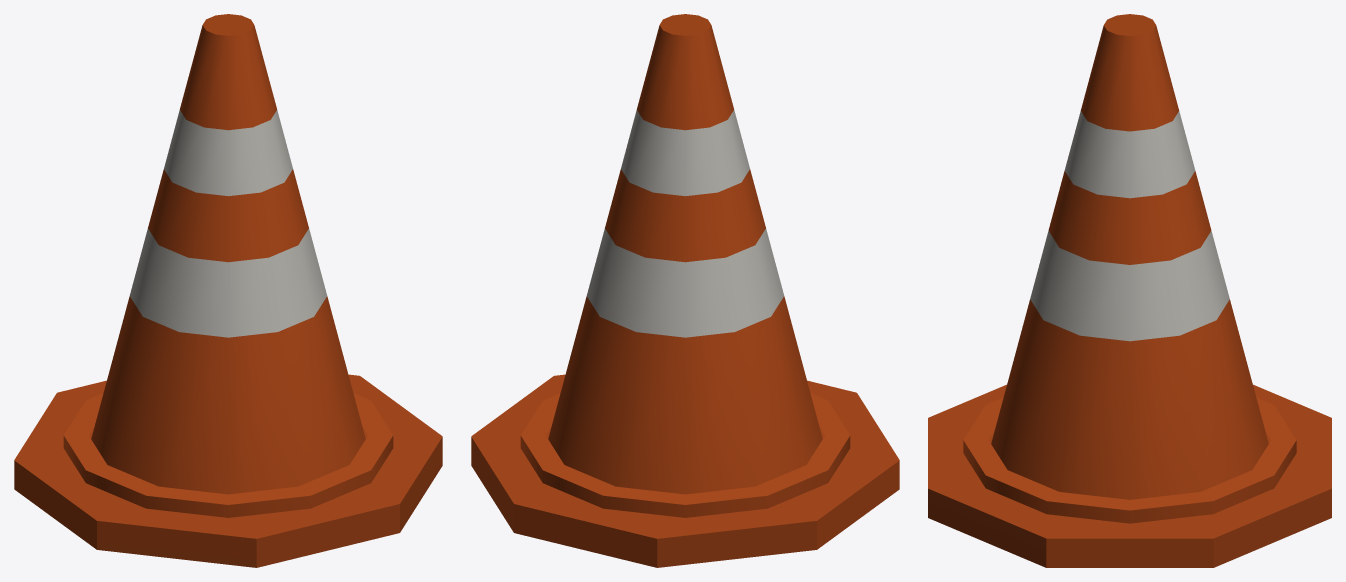
Rendered from sign.cone_slim.banded.glb.
3 renders of one model, left to right at view 1: azimuth 30°, elevation 25°; view 2: azimuth 150°, elevation 25°; view 3: azimuth 270°, elevation 25°, orthographic.
Visible parts, largest first — view 1: sign_cone_slim_banded; view 2: sign_cone_slim_banded; view 3: sign_cone_slim_banded.
Boxes of the visible parts, x1,y1,x2,y2 form: sign_cone_slim_banded: (14, 14, 442, 567); sign_cone_slim_banded: (471, 14, 899, 567); sign_cone_slim_banded: (928, 14, 1331, 567).
Size of what is drawn, in the model's own units: 0.56 by 0.7 by 0.56.
